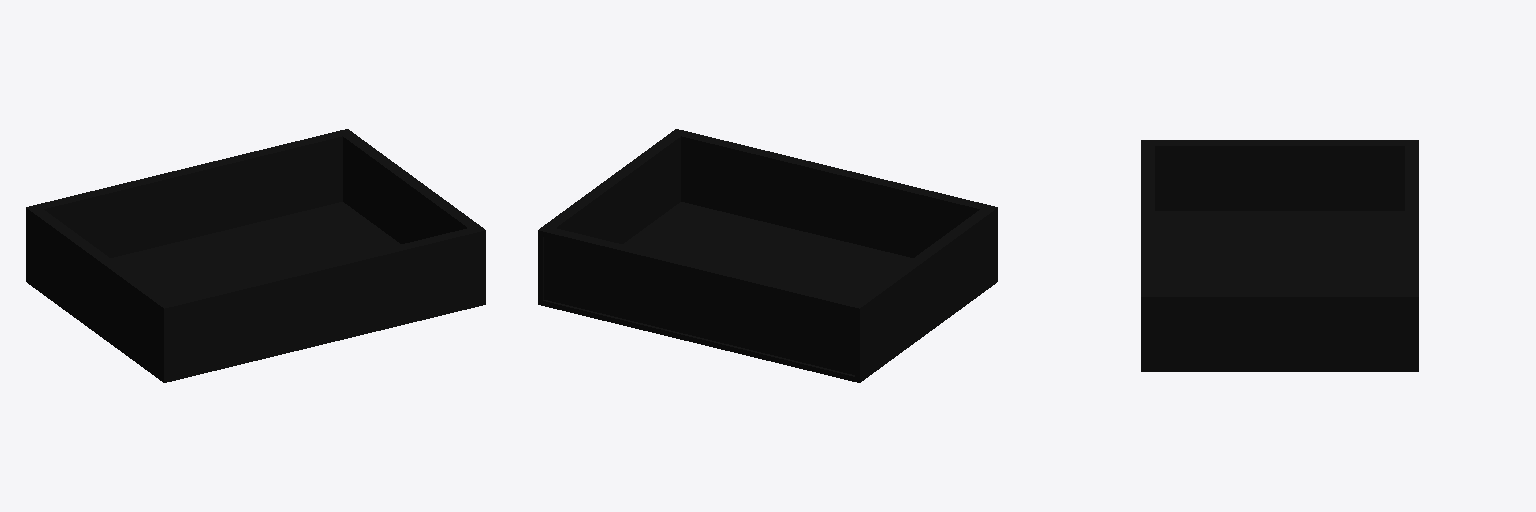
Rendered from Container1.obj.
3 views of the same model, side by side, from view 1: azimuth 30°, elevation 25°; view 2: azimuth 150°, elevation 25°; view 3: azimuth 270°, elevation 25° (orthographic).
Parts seen in each view (by area): view 1: Cube_Cube.001; view 2: Cube_Cube.001; view 3: Cube_Cube.001.
Boxes of the visible parts, x1,y1,x2,y2 form: Cube_Cube.001: [26, 129, 485, 382]; Cube_Cube.001: [538, 129, 997, 382]; Cube_Cube.001: [1141, 140, 1418, 371].
Bounding box in the file's own units: 0.9004 × 0.199 × 0.6711.